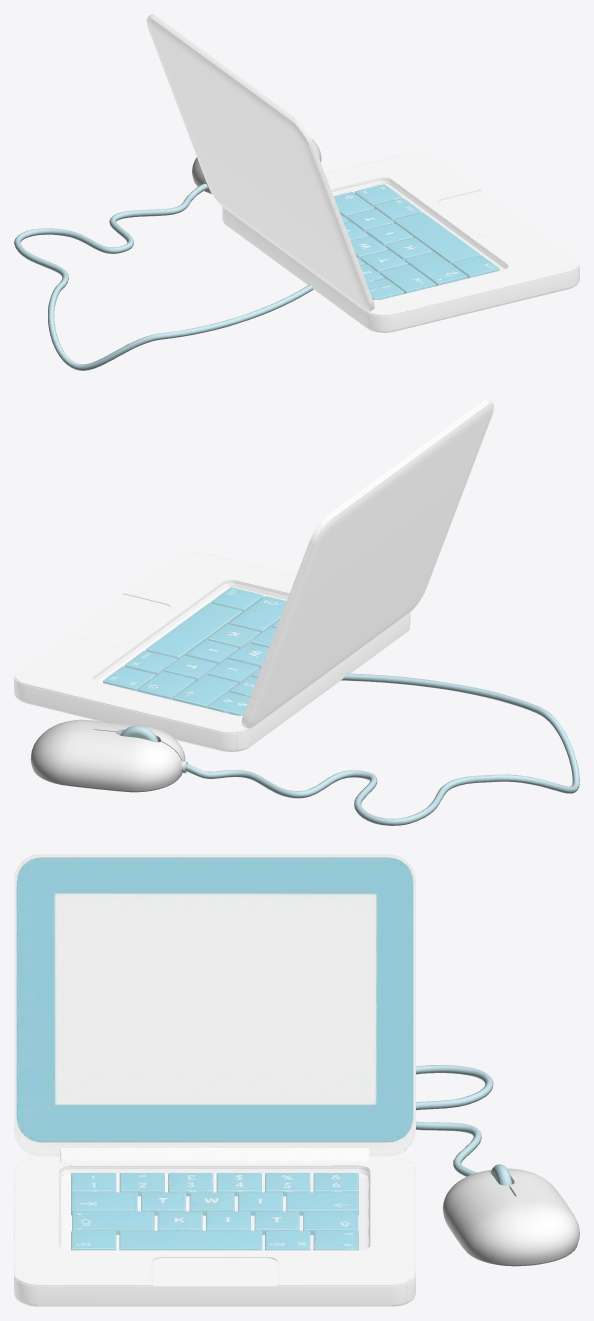
The model's file is mini_macbook_pro-transformed.glb.
3 renders of one model, top to bottom at view 1: azimuth 30°, elevation 25°; view 2: azimuth 150°, elevation 25°; view 3: azimuth 270°, elevation 25°, orthographic. The views are drawn at different scales.
Parts seen in each view (by area): view 1: MacBook_1_MacBook.1_0, Muis_1_Mat_2; view 2: MacBook_1_MacBook.1_0, Muis_1_Mat_0, Muis_1_Mat_2; view 3: MacBook_1_MacBook.1_0, Muis_1_Mat_0, Muis_1_Mat_2.
Boxes of the visible parts, x1,y1,x2,y2 form: MacBook_1_MacBook.1_0: (146, 14, 579, 332); Muis_1_Mat_2: (14, 183, 313, 370); MacBook_1_MacBook.1_0: (14, 399, 493, 751); Muis_1_Mat_0: (30, 719, 187, 792); Muis_1_Mat_2: (120, 673, 579, 825); MacBook_1_MacBook.1_0: (14, 854, 415, 1306); Muis_1_Mat_0: (442, 1168, 579, 1266); Muis_1_Mat_2: (416, 1065, 512, 1187).
Bounding box in the file's own units: 580 × 334 × 521.
3 materials, 1 textured.
